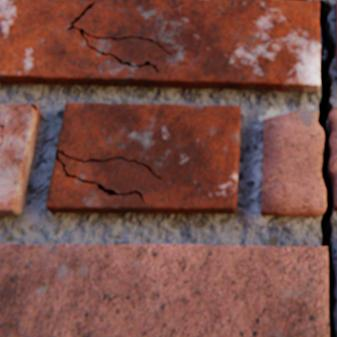brick: (0, 243, 328, 336), (0, 0, 320, 91), (48, 103, 240, 212), (0, 104, 41, 215), (0, 125, 3, 143), (335, 0, 336, 45)
broken_brick: (262, 110, 325, 215), (329, 106, 336, 209)
crack: (68, 2, 172, 72), (316, 0, 336, 336), (57, 149, 162, 202), (0, 123, 5, 148), (32, 103, 37, 110)
